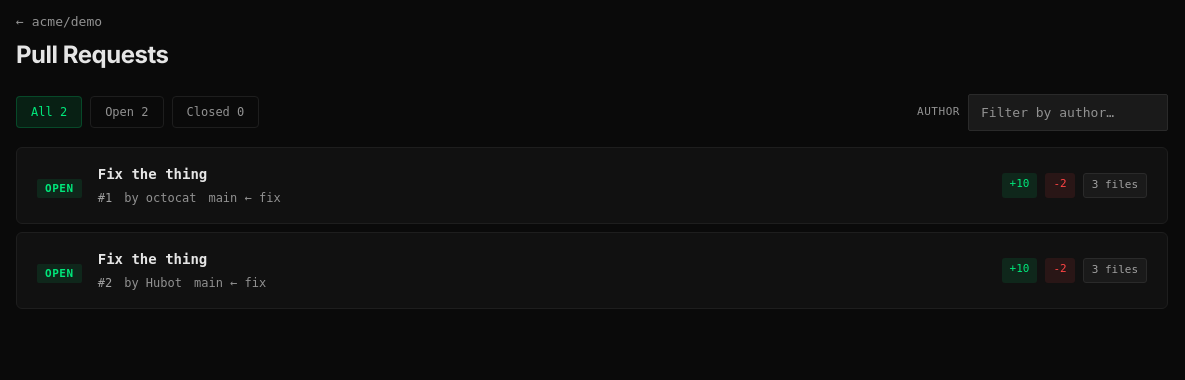
Test case: PrListComponent — four states, filters, pagination (plan Step 6) › filters rows by author (case-insensitive substring) with a clear path back
Type "hub" into the search field with test id "pr-author-filter" at [1068, 112], box [968,94,1168,131]
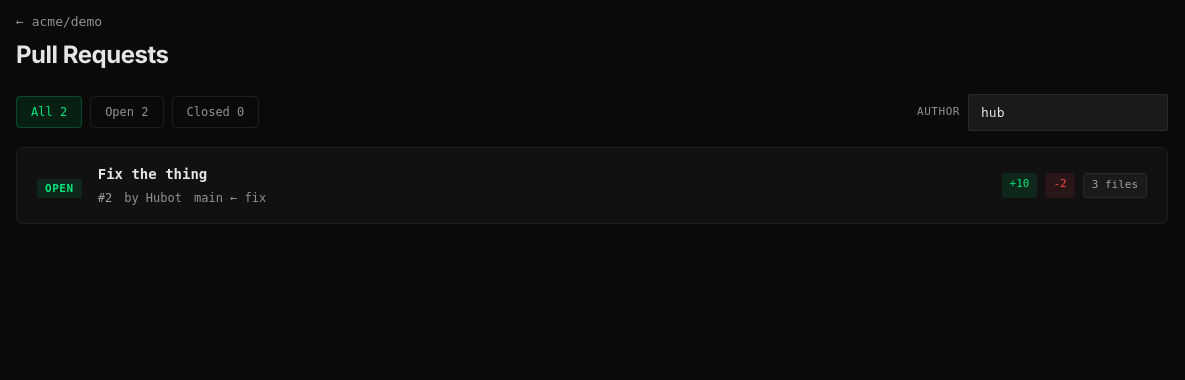
Expected: the text "#2" is shown, [98,189,112,207]
Replace the text in the search field with test id "pr-author-filter" with "nobody" at [1068, 112], box [968,94,1168,131]
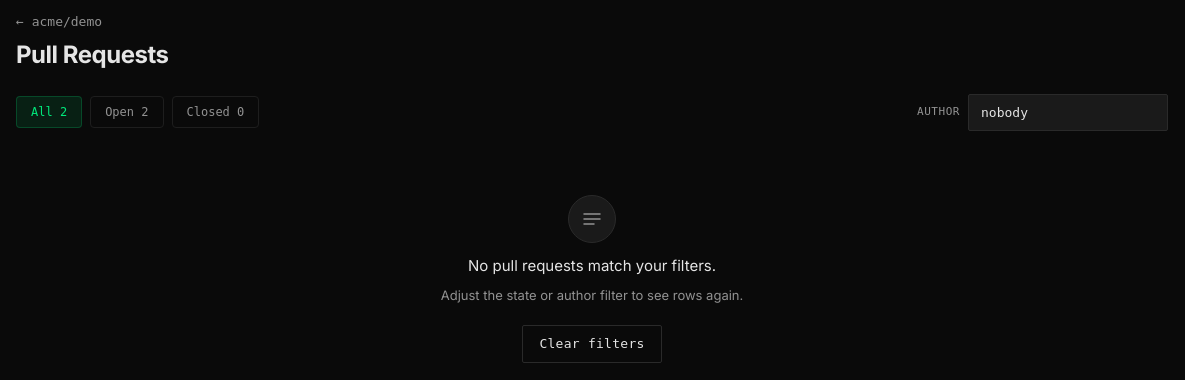
Result: no links are shown
Result: the text "No pull requests match your filters" is shown at [468,256,716,275]
Click the button with test id "clear-pr-filters" at [592, 344], box [522,325,662,362]
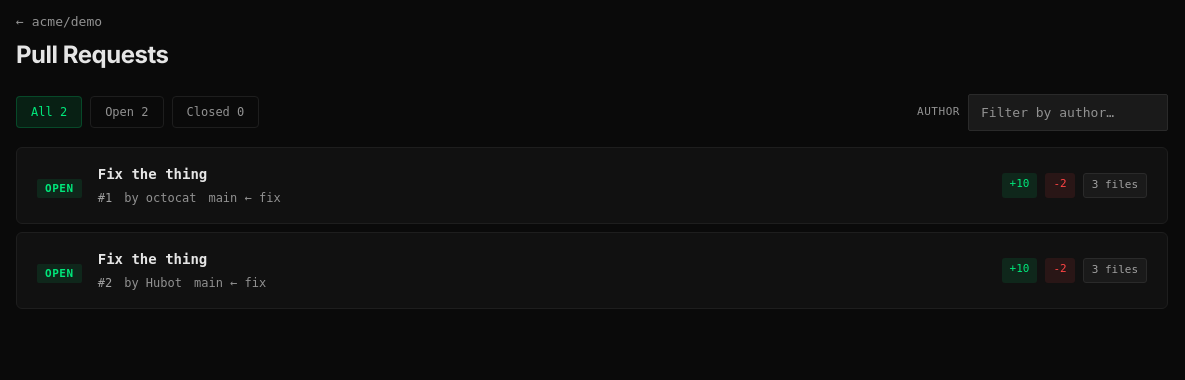
Result: the search field with test id "pr-author-filter" is empty at [968,94,1168,131]
